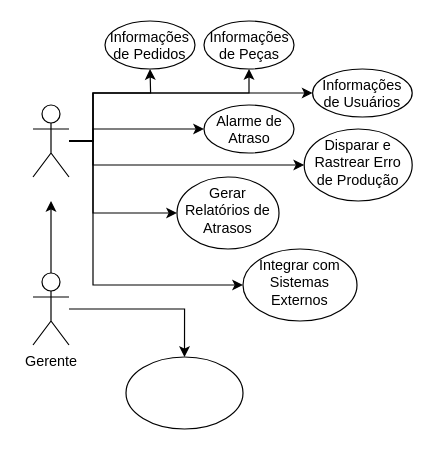
Some shapes in this 433 by 450 pixel diagram are drawn without their labels. The box of each missing label's shape, as (x1, y1, x2, y2) in pixels:
Configurar Alarmes Personalizados: (125, 356, 243, 429)
Operador: (32, 104, 69, 177)
